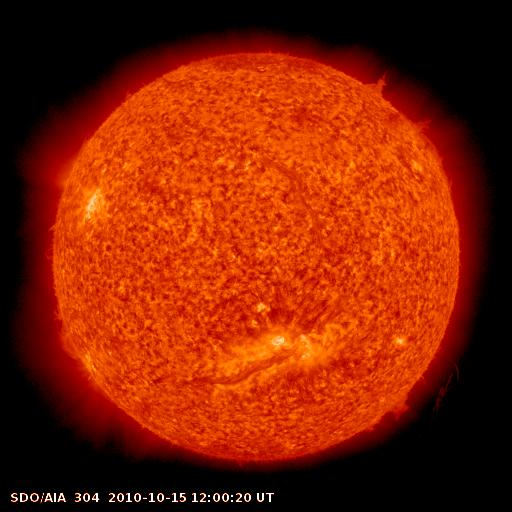prominence: (359, 340, 472, 437), (43, 297, 92, 370), (34, 212, 80, 273), (357, 59, 403, 103), (401, 111, 446, 140)
